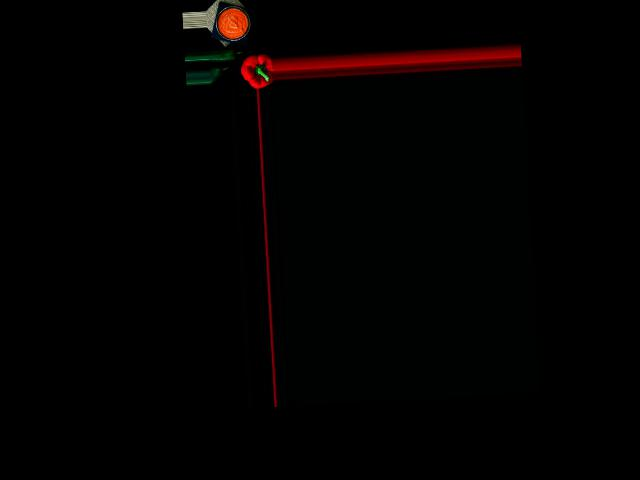bell_pepper: (241, 53, 273, 88)
